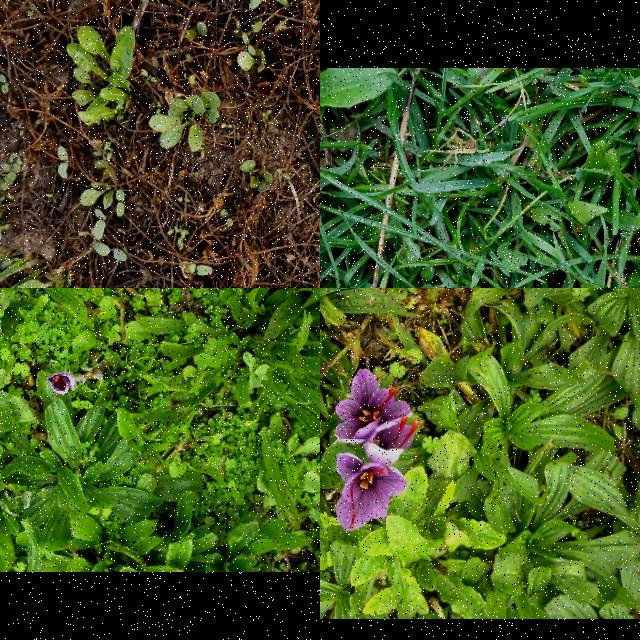flower: (336, 453, 406, 532), (49, 374, 77, 396)
overlap: (336, 368, 418, 468)
